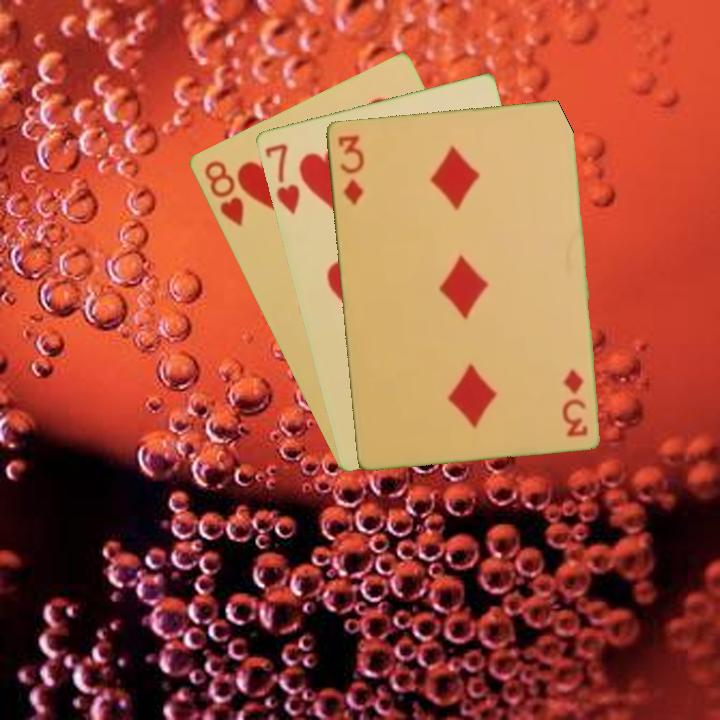3d: (333, 131, 366, 208), (558, 365, 591, 439)
7h: (261, 140, 302, 217)
8h: (200, 156, 247, 230)
